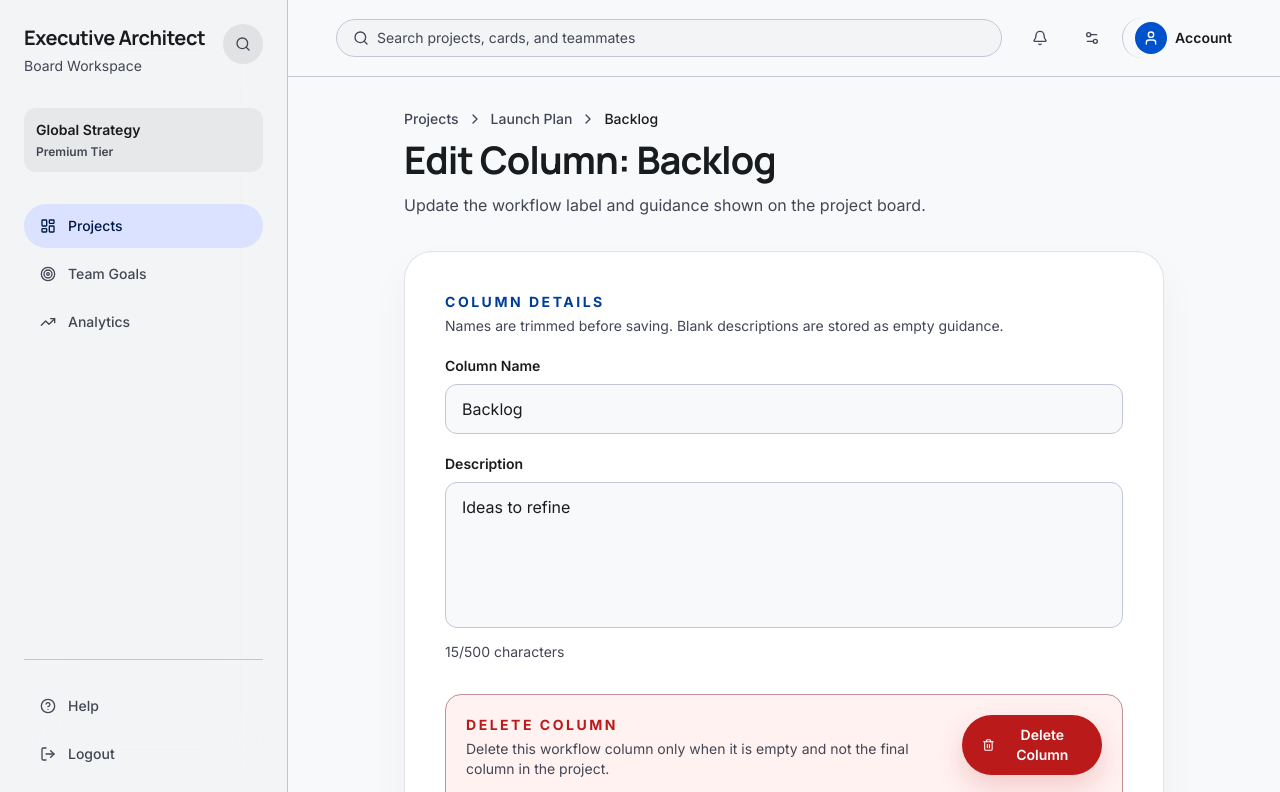
Scenario: ColumnDetailPage › shows a safe delete failure message and stays recoverable
What coordinates should you click on to do the following:
click the button "Delete Column"
I would click on:
 (1032, 745)
Its box is [962,715,1102,775].
(page scrolled)
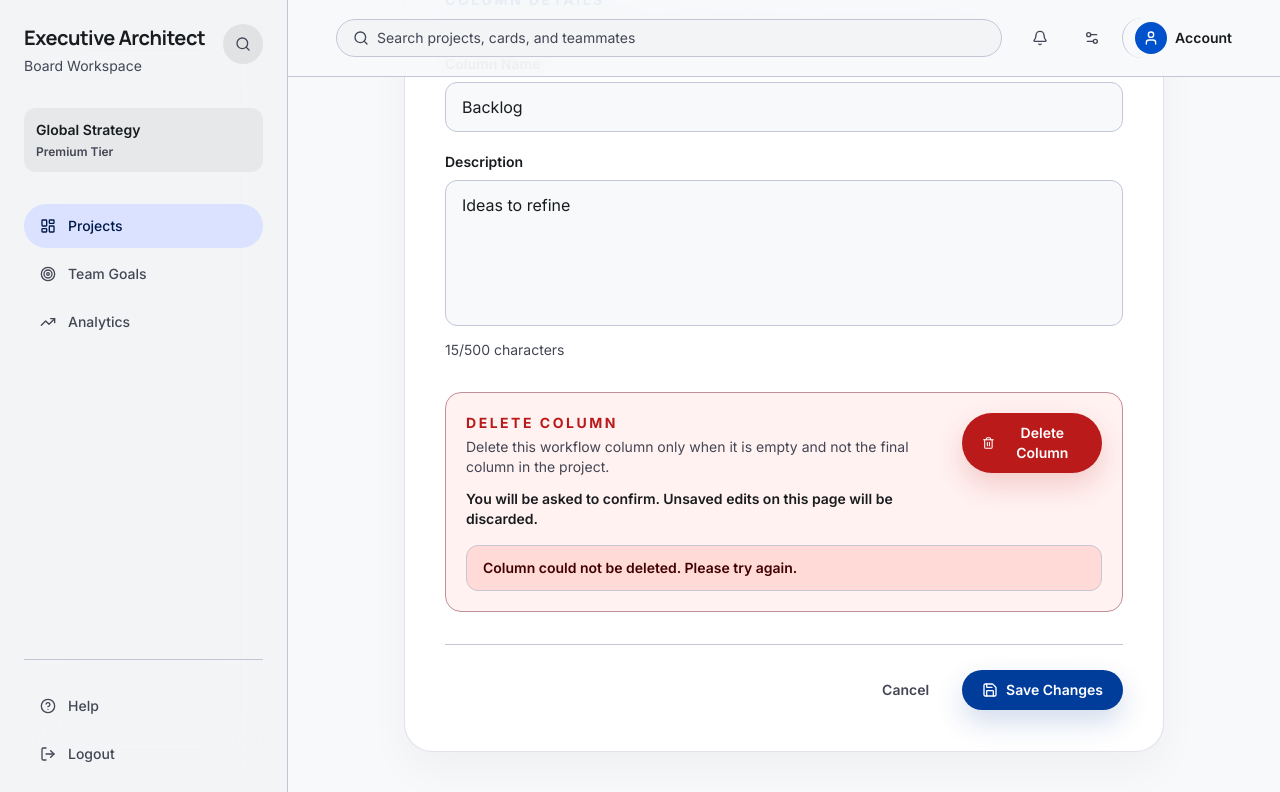
Expected: the button "Save Changes" is shown, [962,670,1123,710]
Expected: the text "Column could not be deleted. Please try again." is shown, [466,545,1102,591]
